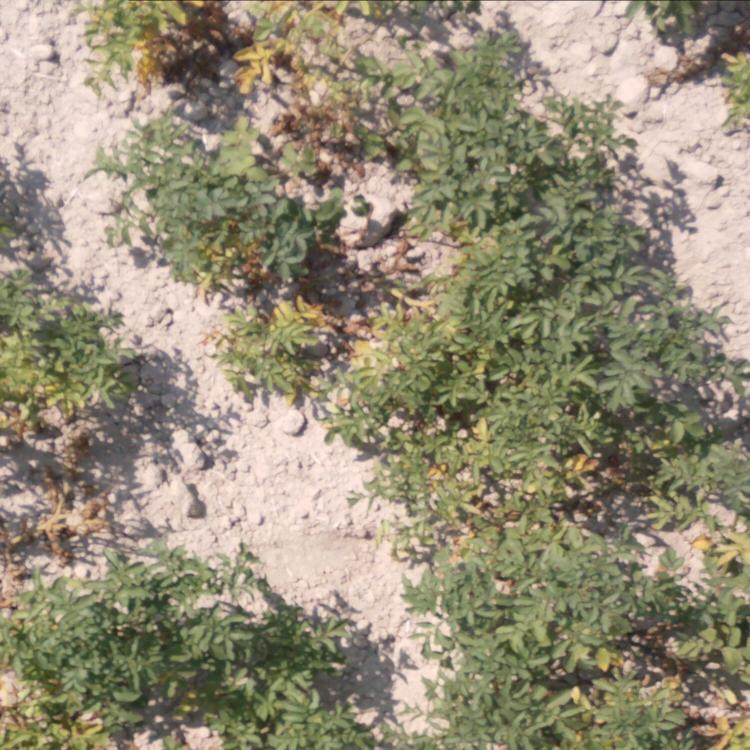healthy: (526, 232, 684, 435), (430, 48, 589, 220), (206, 615, 383, 750), (449, 535, 555, 750), (1, 232, 104, 440), (1, 578, 175, 689), (124, 141, 266, 236)
stressed: (214, 234, 512, 418), (84, 1, 401, 91), (375, 435, 657, 530), (566, 596, 750, 741), (667, 452, 750, 580), (653, 4, 750, 110), (1, 695, 187, 742), (261, 98, 412, 153), (8, 483, 96, 561)
